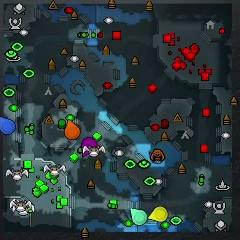p1: (0, 116, 16, 135)
p2: (130, 207, 148, 226)
p3: (82, 137, 98, 157)
p4: (148, 206, 168, 222)
p5: (64, 120, 81, 140)
